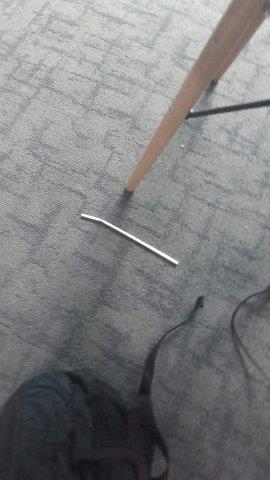sedotan: (81, 214, 179, 265)
